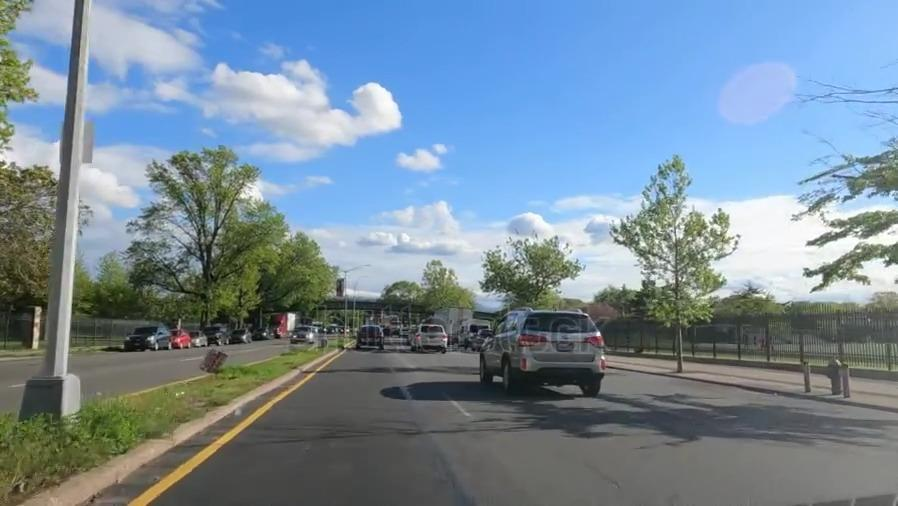car: (483, 307, 613, 395), (121, 326, 170, 350), (412, 323, 447, 352), (353, 325, 384, 349), (165, 326, 187, 349), (293, 323, 315, 345), (191, 331, 204, 349)
